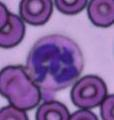N: (25, 34, 84, 92)
